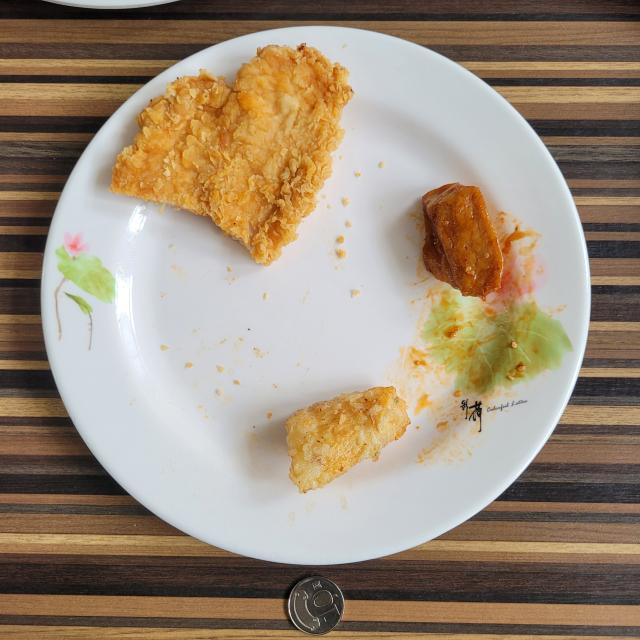coin: (288, 576, 345, 635)
creamy tofu: (422, 182, 502, 300)
fried chicken cutlet: (110, 45, 352, 265)
fried potato: (286, 386, 410, 492)
